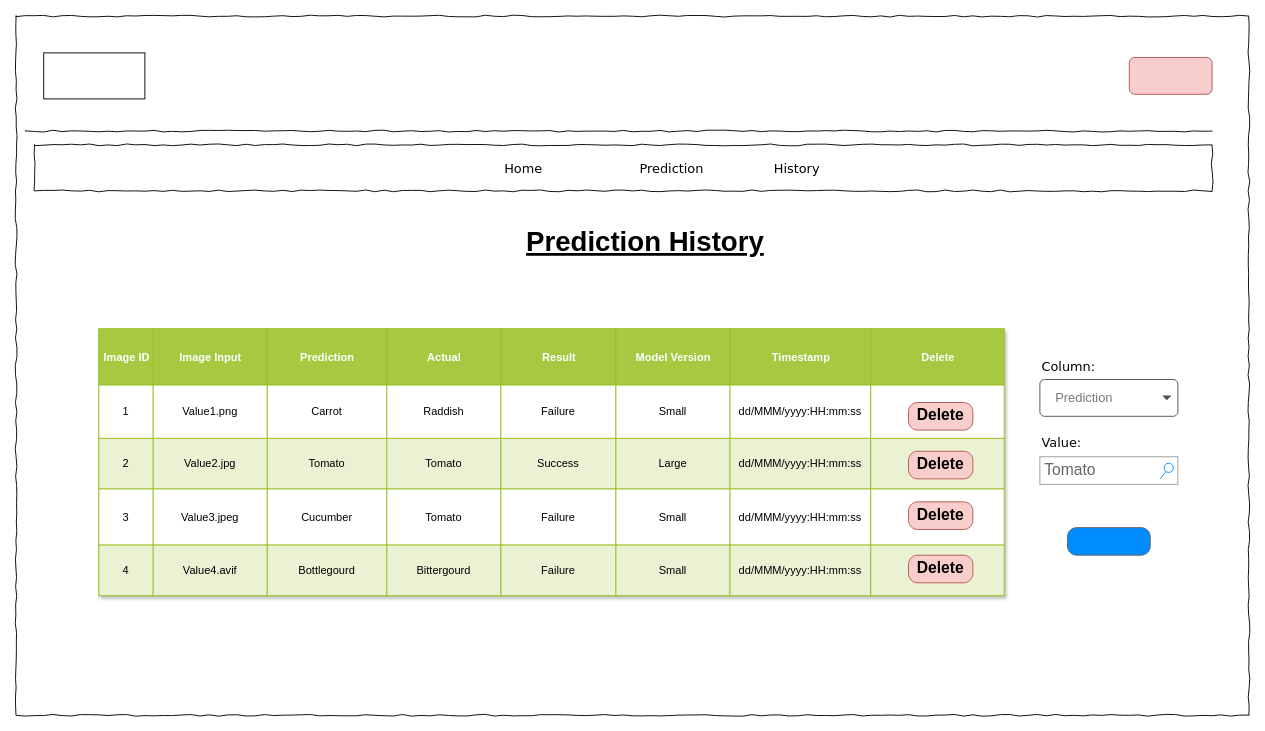
Some shapes in this 1265 by 731 pixel diagram are drawn without their labels. The centre of each missing label's shape, as x and y in pixels:
LOGO: point 94,75
Logout: point 1170,75
Search: point 1108,541
